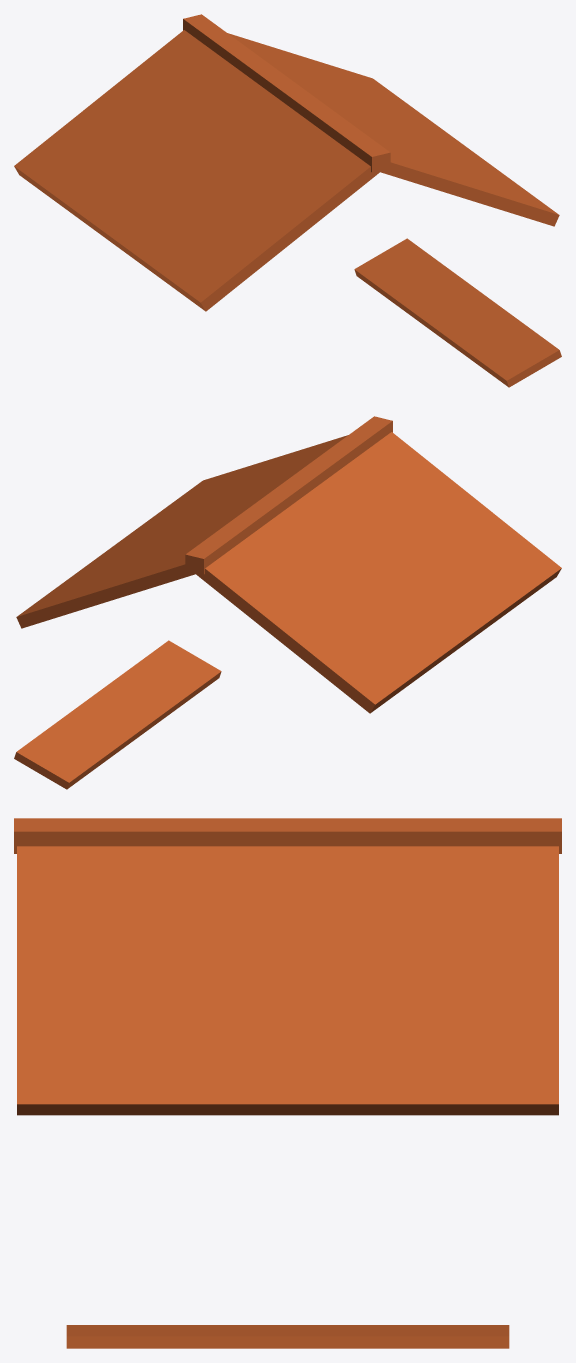
File: HouseRoofsE_RoofOrange.fbx
The picture shows the model from 3 angles, top to bottom: view 1: azimuth 30°, elevation 25°; view 2: azimuth 150°, elevation 25°; view 3: azimuth 270°, elevation 25°; orthographic projection. The views are drawn at different scales.
Parts seen in each view (by area): view 1: RoofE8_-1.001; view 2: RoofE8_-1.001; view 3: RoofE8_-1.001.
Boxes of the visible parts, x1,y1,x2,y2 form: RoofE8_-1.001: [14, 14, 561, 387]; RoofE8_-1.001: [14, 416, 561, 789]; RoofE8_-1.001: [14, 818, 561, 1348].
Bounding box in the file's own units: 2041 × 1453 × 1765.
